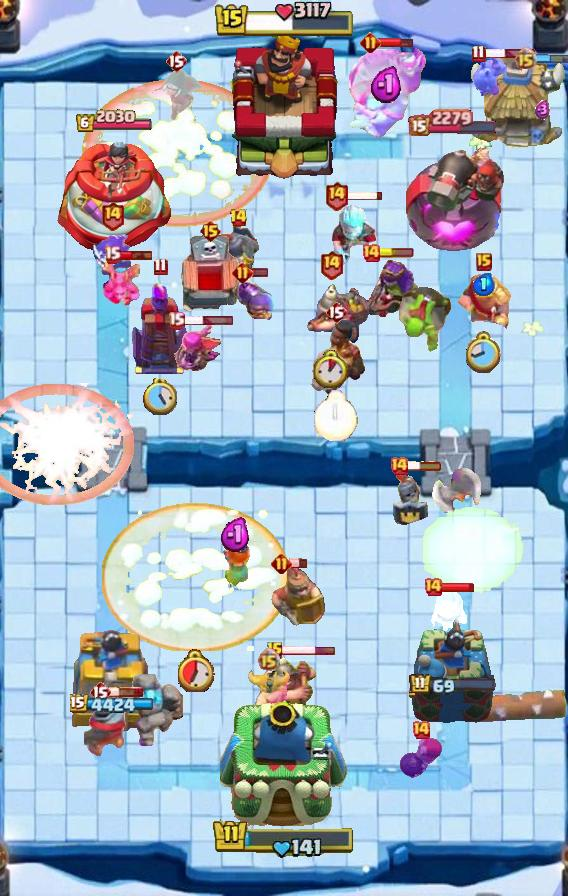archer-evolution: (158, 325, 224, 377)
axe: (428, 468, 482, 528)
bandit: (149, 68, 203, 122)
bar: (282, 645, 336, 656), (182, 315, 234, 326), (484, 48, 536, 59), (378, 36, 414, 49), (108, 686, 144, 698), (407, 460, 443, 472), (118, 249, 154, 261), (347, 190, 384, 201), (535, 53, 568, 65), (441, 582, 475, 593), (378, 248, 414, 258), (289, 558, 308, 569), (250, 267, 269, 278)
bar-level: (319, 249, 344, 280), (100, 200, 125, 231), (324, 180, 349, 211), (199, 219, 222, 243), (257, 648, 280, 671), (514, 47, 537, 70), (89, 680, 111, 704), (325, 300, 347, 324), (165, 49, 187, 73), (271, 553, 292, 574), (232, 262, 253, 283), (360, 32, 381, 53), (411, 720, 431, 740), (423, 577, 443, 597), (389, 456, 409, 476), (361, 243, 381, 263), (229, 208, 248, 228), (266, 641, 284, 661), (168, 311, 185, 330), (104, 245, 121, 264), (476, 253, 492, 271), (153, 257, 168, 276), (471, 44, 486, 63)
bomber: (399, 737, 443, 779)
cannoneer-tower: (402, 136, 504, 256)
clock: (314, 390, 358, 441), (178, 649, 215, 692), (466, 331, 502, 375), (314, 350, 348, 388), (143, 378, 177, 415)
electro-spirit: (91, 235, 133, 275)
elite-barbarian: (246, 669, 290, 725)
elixir: (370, 66, 404, 104), (220, 517, 252, 553), (473, 273, 495, 296), (535, 100, 550, 120)
goblin-ball: (396, 284, 454, 356)
golemite: (107, 674, 183, 752)
guard: (392, 467, 440, 529), (216, 225, 260, 283)
ice-spirit: (429, 588, 471, 632)
ice-wizard: (328, 198, 380, 266)
king-tower: (222, 31, 346, 181), (220, 701, 348, 826)
king-tower-bar: (212, 818, 356, 860), (213, 0, 355, 40)
knight: (84, 695, 140, 759), (457, 273, 511, 329)
knight-evolution: (233, 278, 275, 321)
miner: (291, 281, 371, 345), (264, 650, 318, 724)
minion: (103, 257, 143, 307), (468, 56, 510, 98)
queen-tower: (51, 137, 177, 256), (64, 621, 164, 731), (409, 616, 497, 731)
ram-rider: (306, 320, 366, 396)
royal-recruit: (271, 559, 325, 627)
the-log: (468, 687, 568, 725)
tower-bar: (408, 108, 499, 136), (409, 673, 497, 697), (75, 109, 153, 134), (70, 694, 158, 716)
valkyrie: (217, 540, 255, 592)
